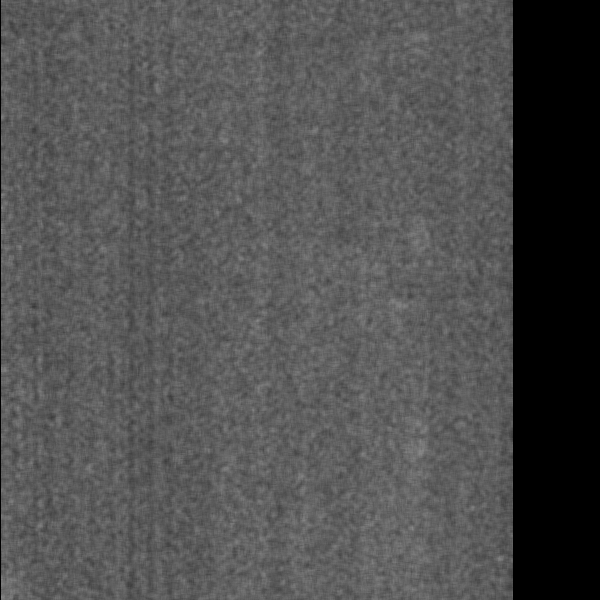spark: (405, 440, 430, 461), (404, 413, 427, 428)
